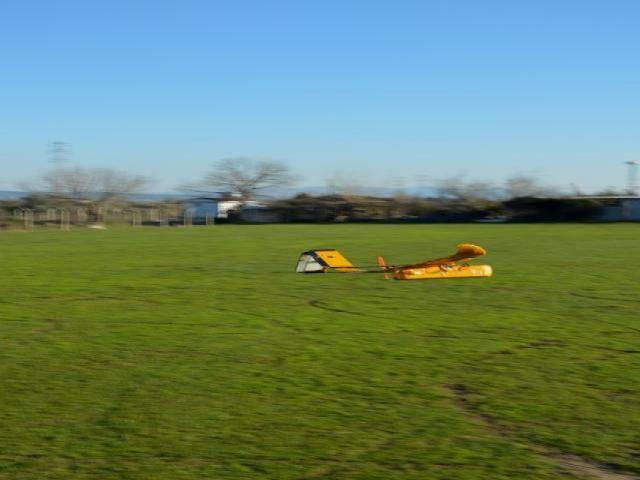iha: (287, 237, 502, 281)
